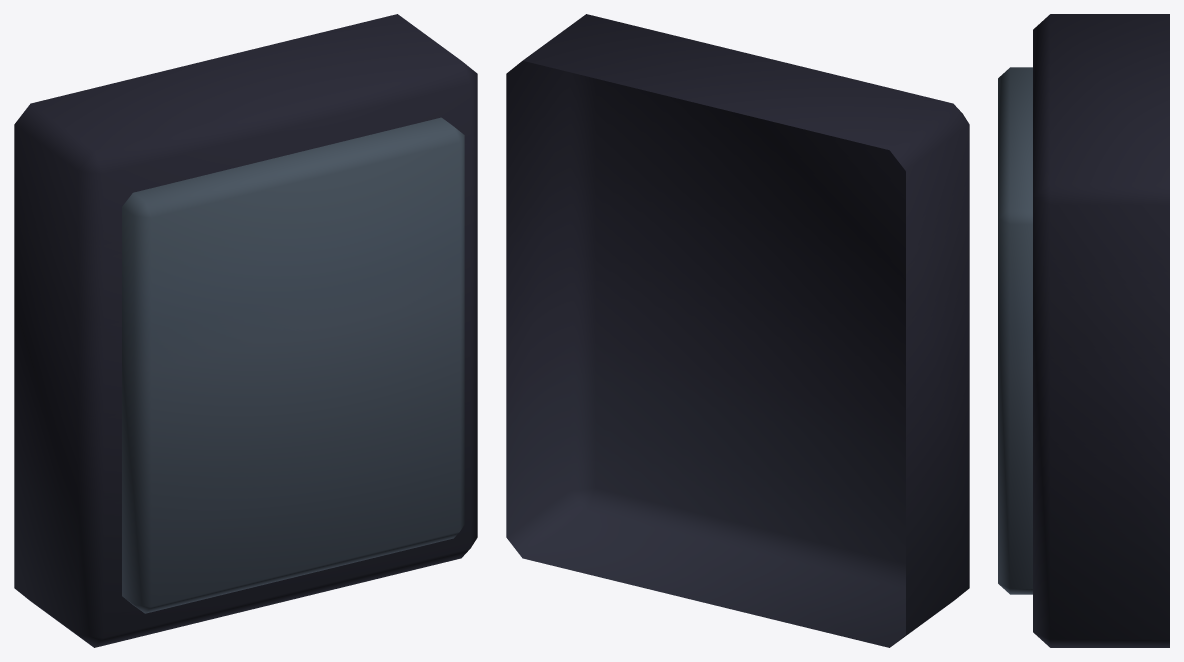
The model's file is ElectricBox_2_C_1.fbx.
The picture shows the model from 3 angles, left to right: view 1: azimuth 30°, elevation 25°; view 2: azimuth 150°, elevation 25°; view 3: azimuth 270°, elevation 25°; orthographic projection. The views are drawn at different scales.
Parts seen in each view (by area): view 1: ElectricBox_2_C_1; view 2: ElectricBox_2_C_1; view 3: ElectricBox_2_C_1.
Part boxes in pixels (bbox=[...]): ElectricBox_2_C_1: bbox=[14, 14, 477, 647]; ElectricBox_2_C_1: bbox=[506, 14, 969, 647]; ElectricBox_2_C_1: bbox=[998, 14, 1169, 647].
Size of the model in its own units: 38.15 by 45.42 by 15.17.
